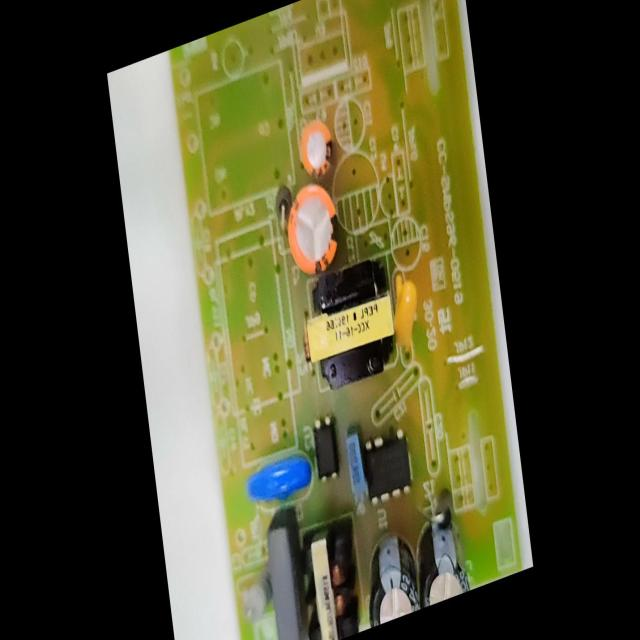Cap1: (280, 171, 346, 287)
Cap2: (294, 109, 338, 186)
Cap3: (358, 519, 423, 628)
Cap4: (409, 500, 474, 609)
MOSFET: (358, 417, 418, 513)
Mov: (240, 441, 318, 520)
Resistor: (238, 568, 274, 630)
Transformer: (300, 251, 401, 404), (296, 512, 362, 640)
